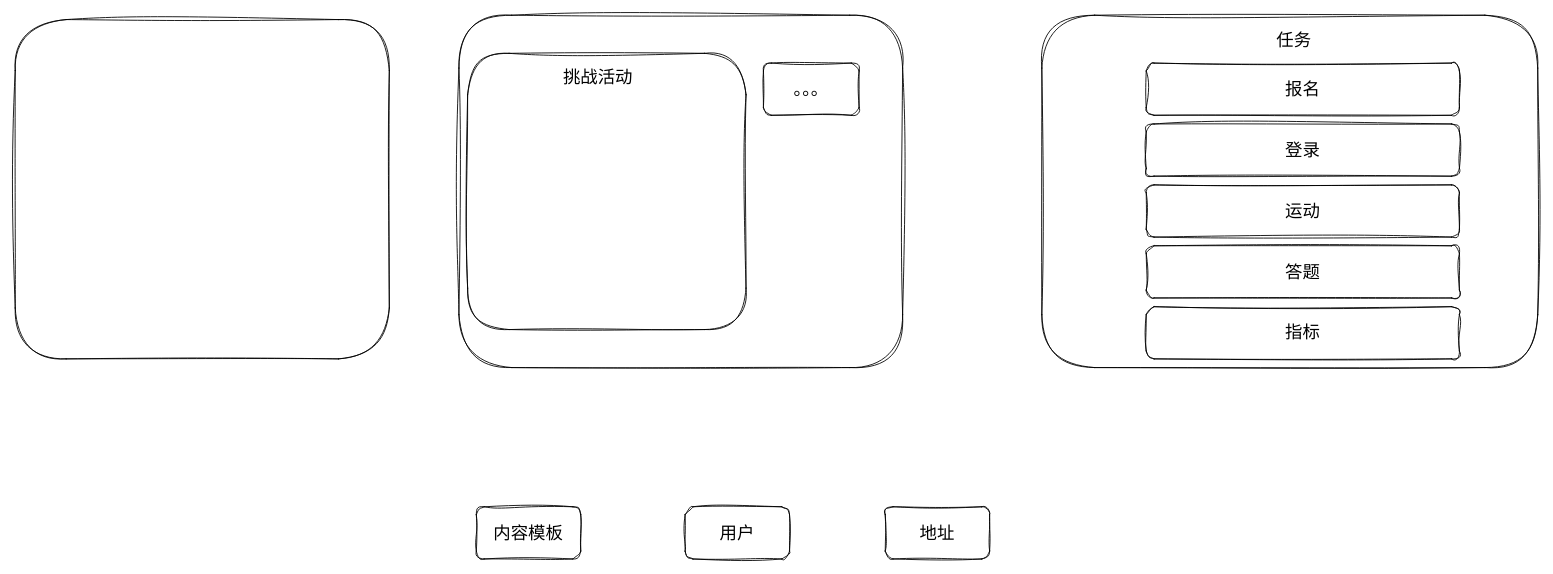
This 1553x574 diagram has some shape labels left out. Each missing label, with the box of its shape:
奖品: (14, 19, 389, 359)
活动: (458, 14, 903, 368)
